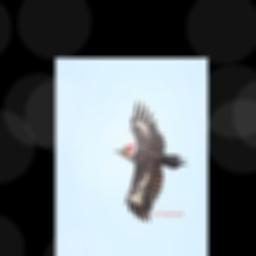Woodpecker: (115, 100, 188, 221)
